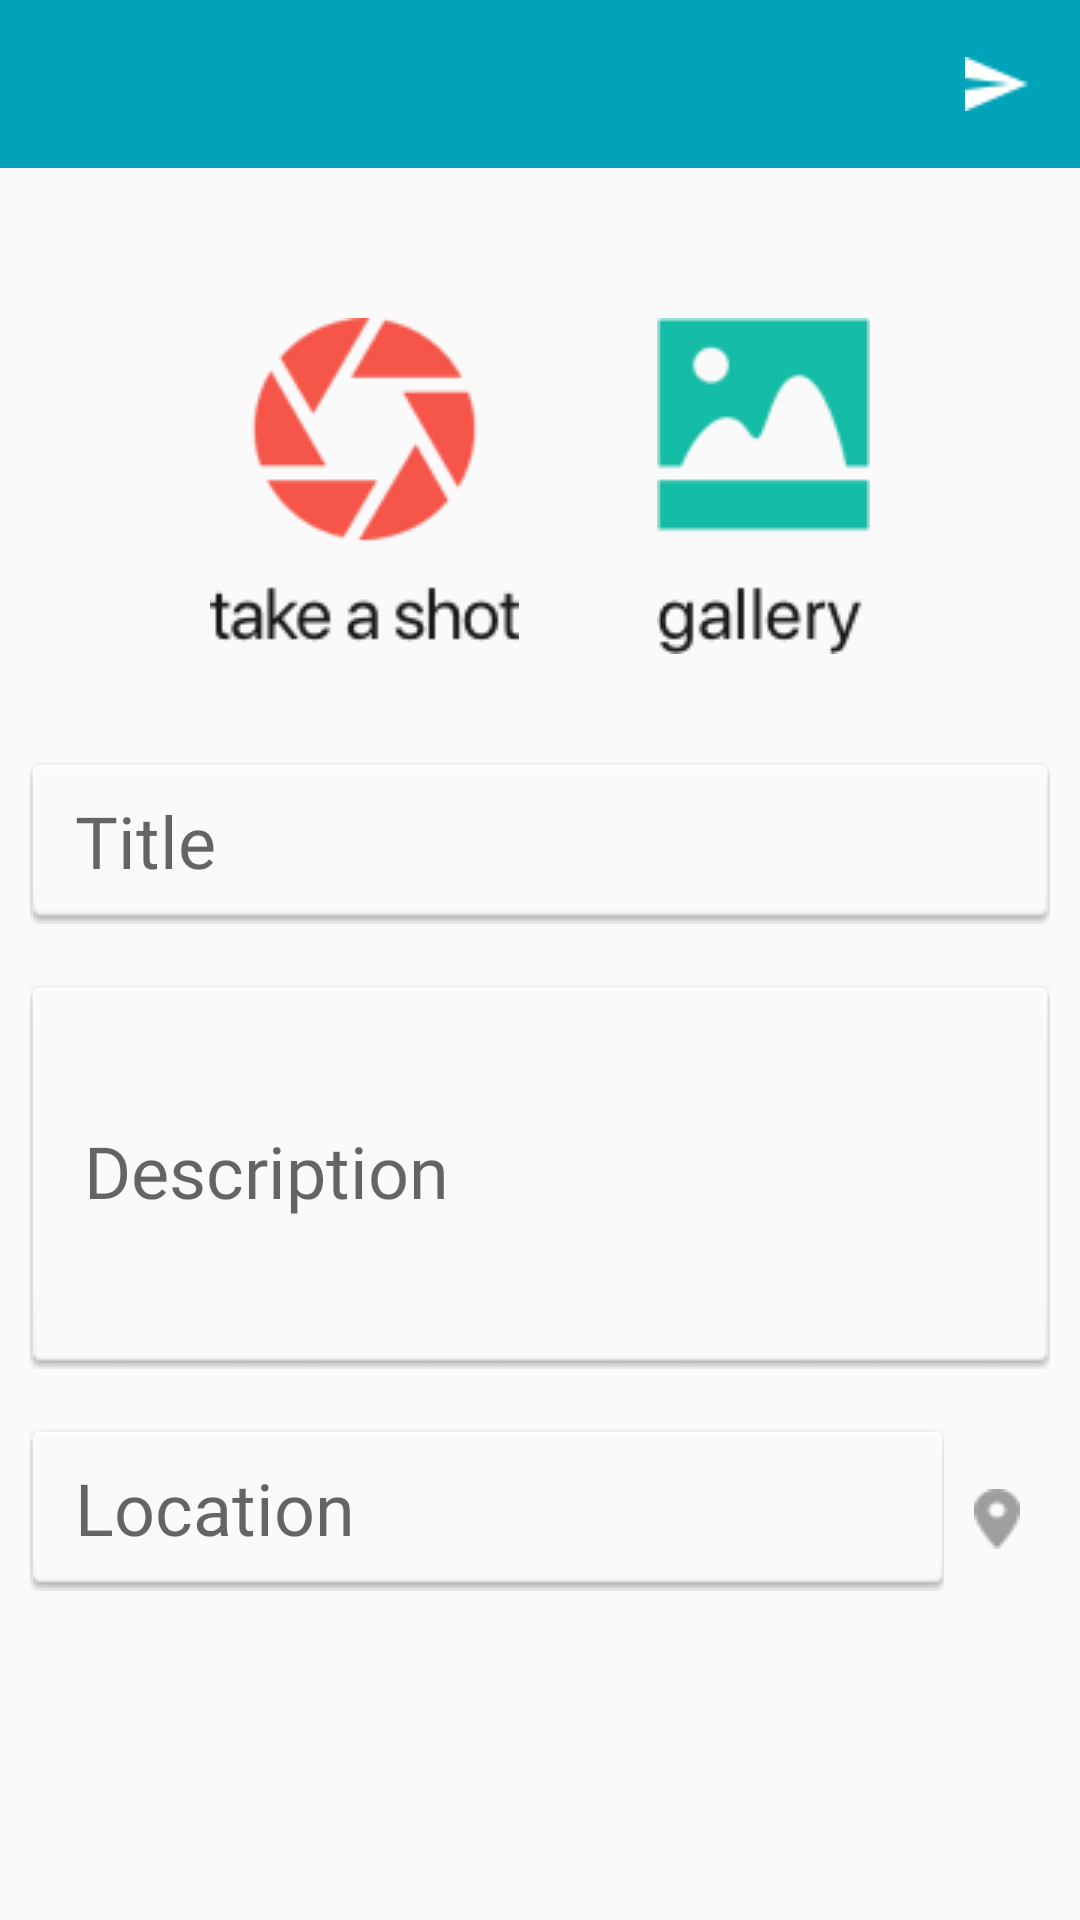

Icons on this 1080px x 1920px Android screen, each with its box as Rect(x1, y1, x2, y2):
loc: Rect(974, 1489, 1020, 1549)
upload: Rect(965, 57, 1028, 111)
